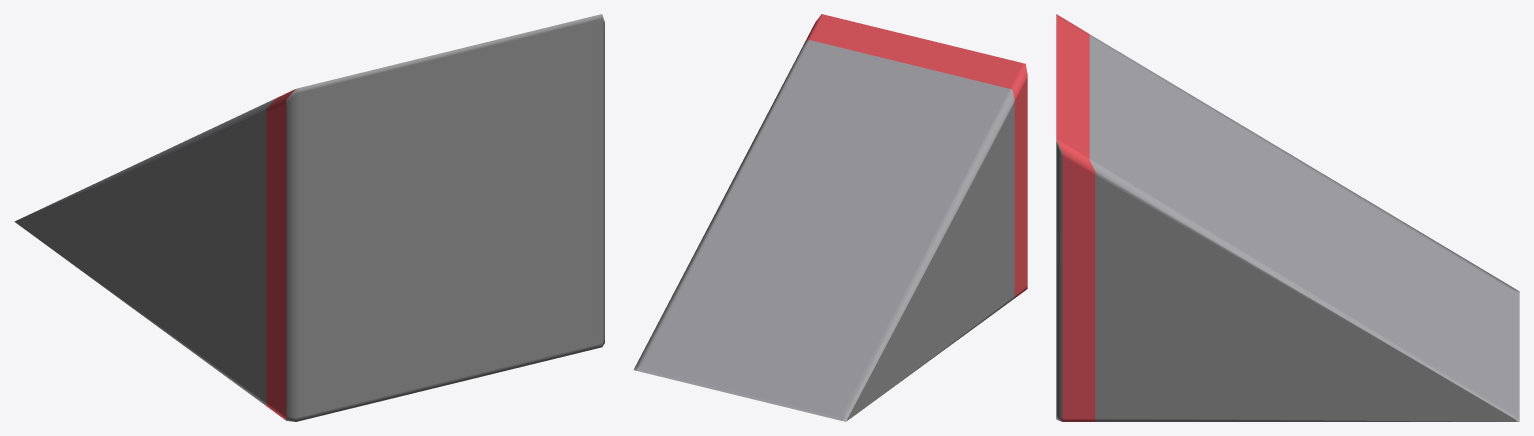
Rendered from big_ramp.glb.
3 renders of one model, left to right at view 1: azimuth 30°, elevation 25°; view 2: azimuth 150°, elevation 25°; view 3: azimuth 270°, elevation 25°, orthographic. The views are drawn at different scales.
Visible parts, largest first — view 1: Cube.037; view 2: Cube.037; view 3: Cube.037.
Part boxes in pixels (x1,y1,x2,y2): Cube.037: (14, 14, 604, 421); Cube.037: (633, 14, 1027, 421); Cube.037: (1056, 14, 1519, 421).
Size of the model in its own units: 10 by 10 by 15.
